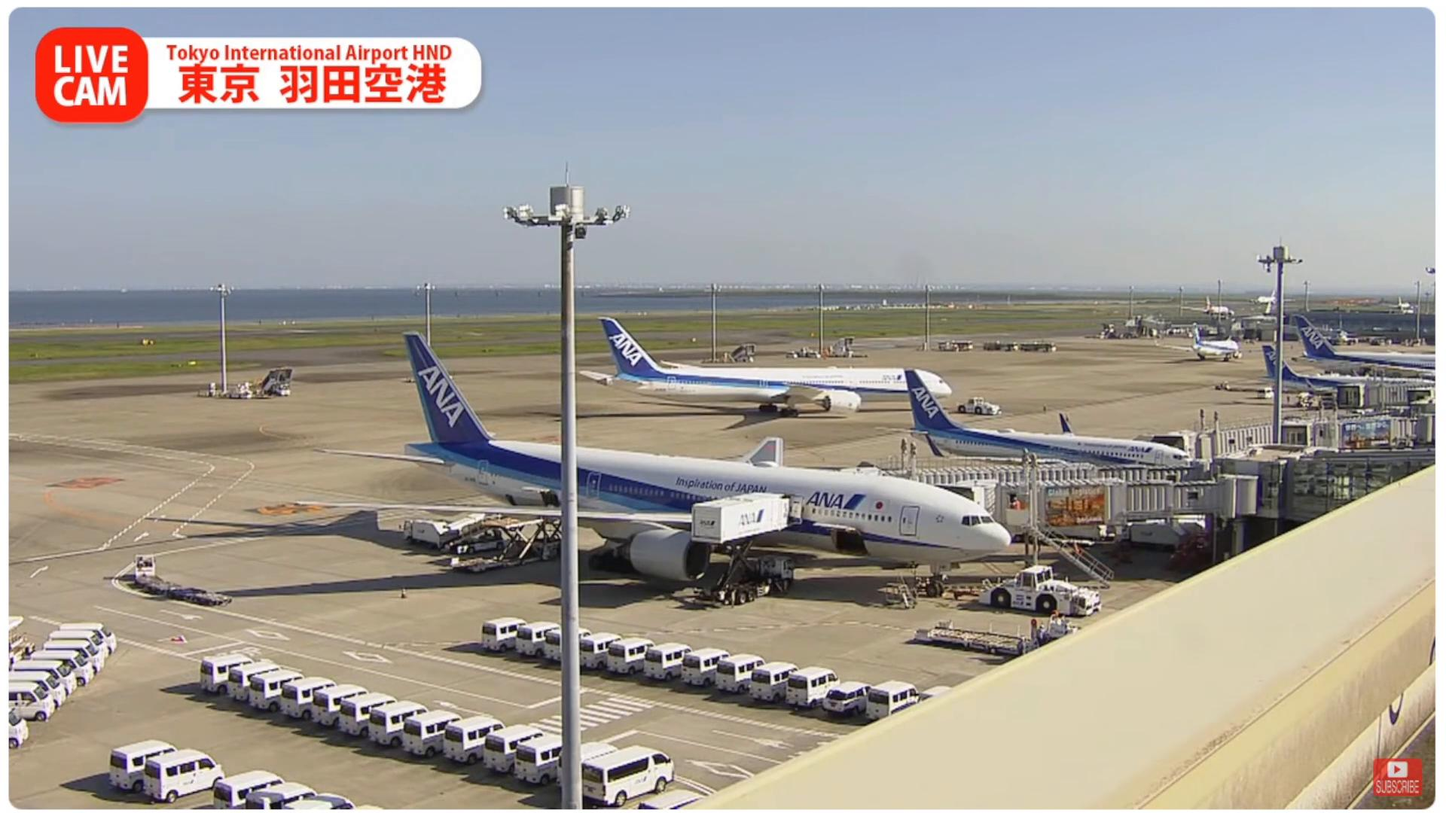APS: (982, 565, 1107, 615)
Aerobridge: (880, 463, 1198, 520), (990, 479, 1258, 539)
Airplane: (308, 328, 1018, 599)
Baggage truck: (382, 510, 441, 545)
Catering: (689, 490, 795, 607)
Dolly: (118, 574, 257, 608)
JCPL: (914, 608, 1083, 659), (437, 520, 564, 580)
Skyloader: (426, 503, 510, 554)
Tractor: (134, 552, 159, 580)
Window: (1281, 462, 1437, 524)
